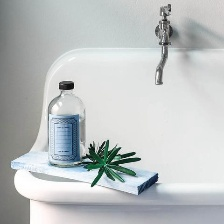bottle: (44, 75, 86, 170)
